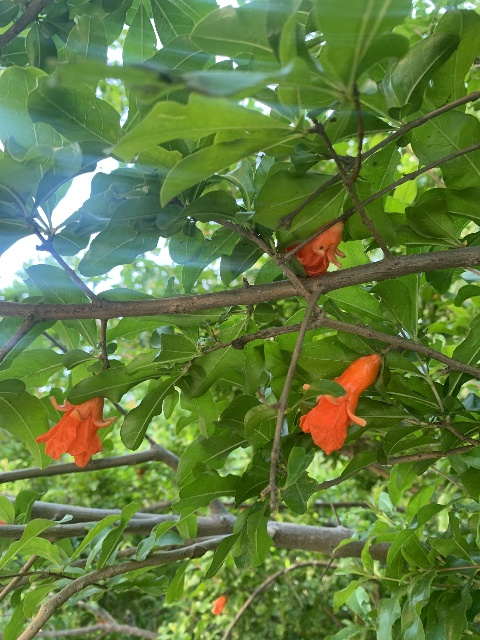flower: (299, 354, 380, 455), (34, 394, 117, 467), (283, 220, 345, 276), (212, 595, 226, 615)
